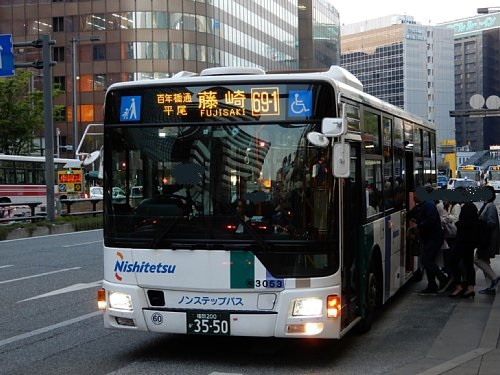destination: (153, 84, 285, 121)
